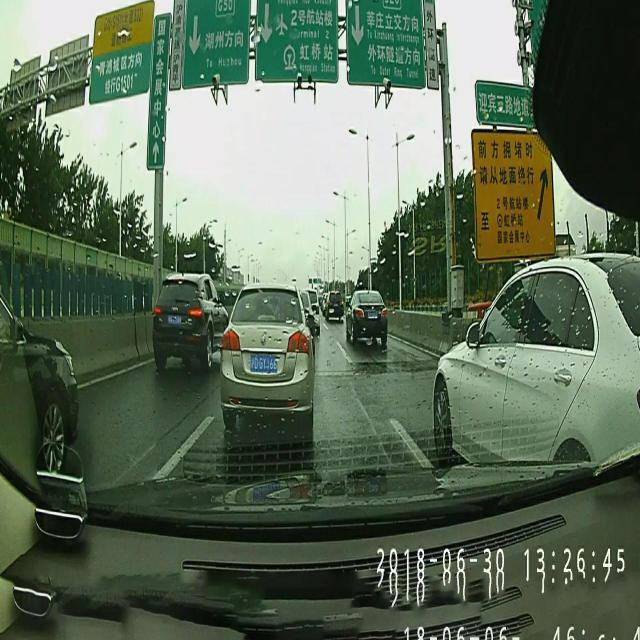car: (432, 250, 640, 466), (0, 290, 79, 474), (220, 283, 314, 437), (152, 272, 230, 372), (345, 282, 388, 346), (326, 288, 344, 320)
